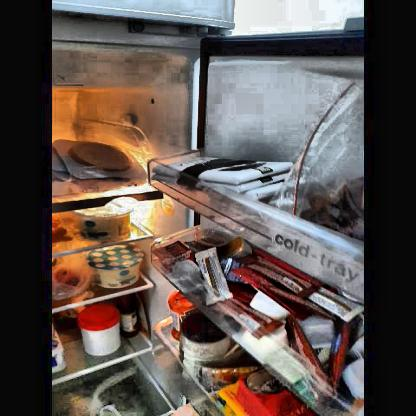butter: (213, 390, 251, 415)
chocolate: (164, 154, 280, 192)
dates: (302, 174, 365, 228)
salami: (68, 136, 132, 178)
tomato: (56, 266, 84, 288)
yoghurt: (91, 249, 146, 286), (76, 209, 134, 239)
